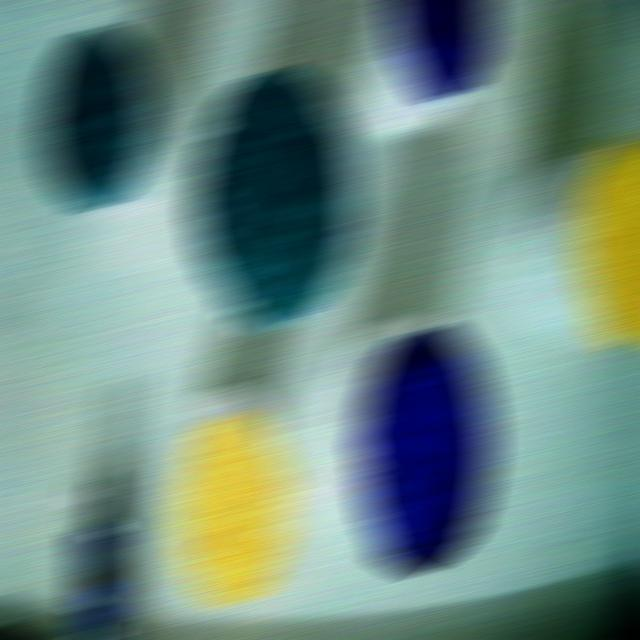blue: (353, 328, 494, 575), (387, 0, 492, 100)
green: (188, 66, 357, 329), (39, 27, 152, 208)
yellow: (171, 418, 292, 603), (576, 134, 639, 347)
